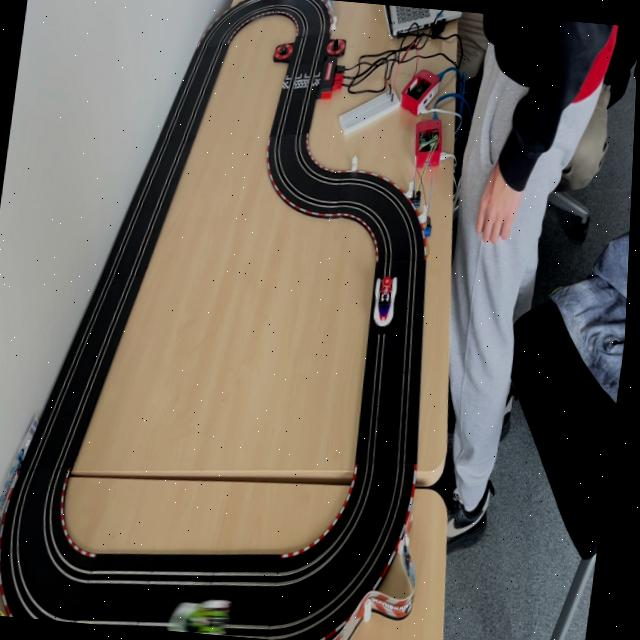mario: (372, 272, 402, 330)
yoshi: (166, 593, 244, 636)
